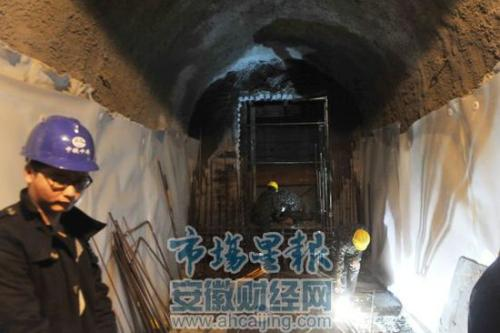hard-hat: (20, 114, 99, 172), (352, 225, 371, 249), (266, 180, 279, 192)
person: (1, 115, 119, 333), (329, 220, 372, 299), (252, 180, 303, 230)
ppe-suit: (1, 189, 119, 333)
